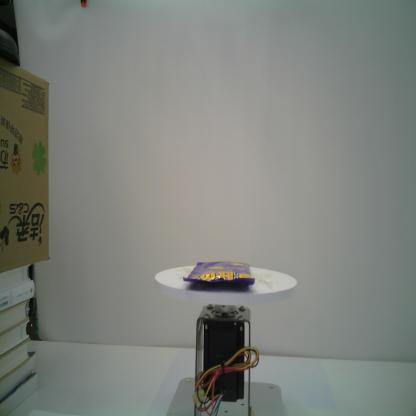Candy: (182, 260, 256, 288)
